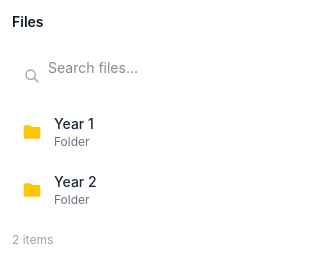
Scenario: DriveFileBrowser › remembers where you navigate to
Click the text "Year 2" at (75, 182), box [54,173,97,190]
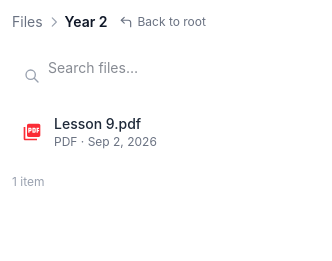
Expected: the text "Lesson 9.pdf" is shown, [54,115,141,132]
